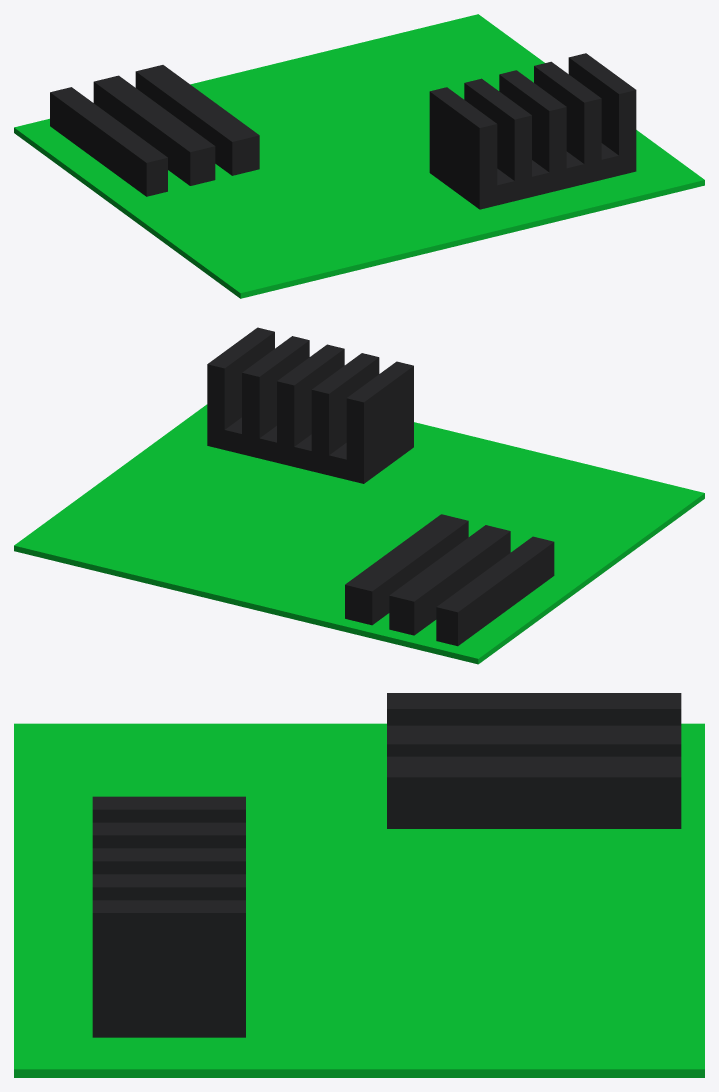
The model's file is motherboardnewnew.fbx.
3 renders of one model, top to bottom at view 1: azimuth 30°, elevation 25°; view 2: azimuth 150°, elevation 25°; view 3: azimuth 270°, elevation 25°, orthographic. The views are drawn at different scales.
Parts seen in each view (by area): view 1: MotherboardRough; view 2: MotherboardRough; view 3: MotherboardRough.
Boxes of the visible parts, x1=… form: MotherboardRough: x1=14, y1=14, x2=704, y2=298; MotherboardRough: x1=14, y1=327, x2=704, y2=664; MotherboardRough: x1=14, y1=693, x2=704, y2=1077.
Size of the model in its own units: 103 by 18.53 by 87.29.
